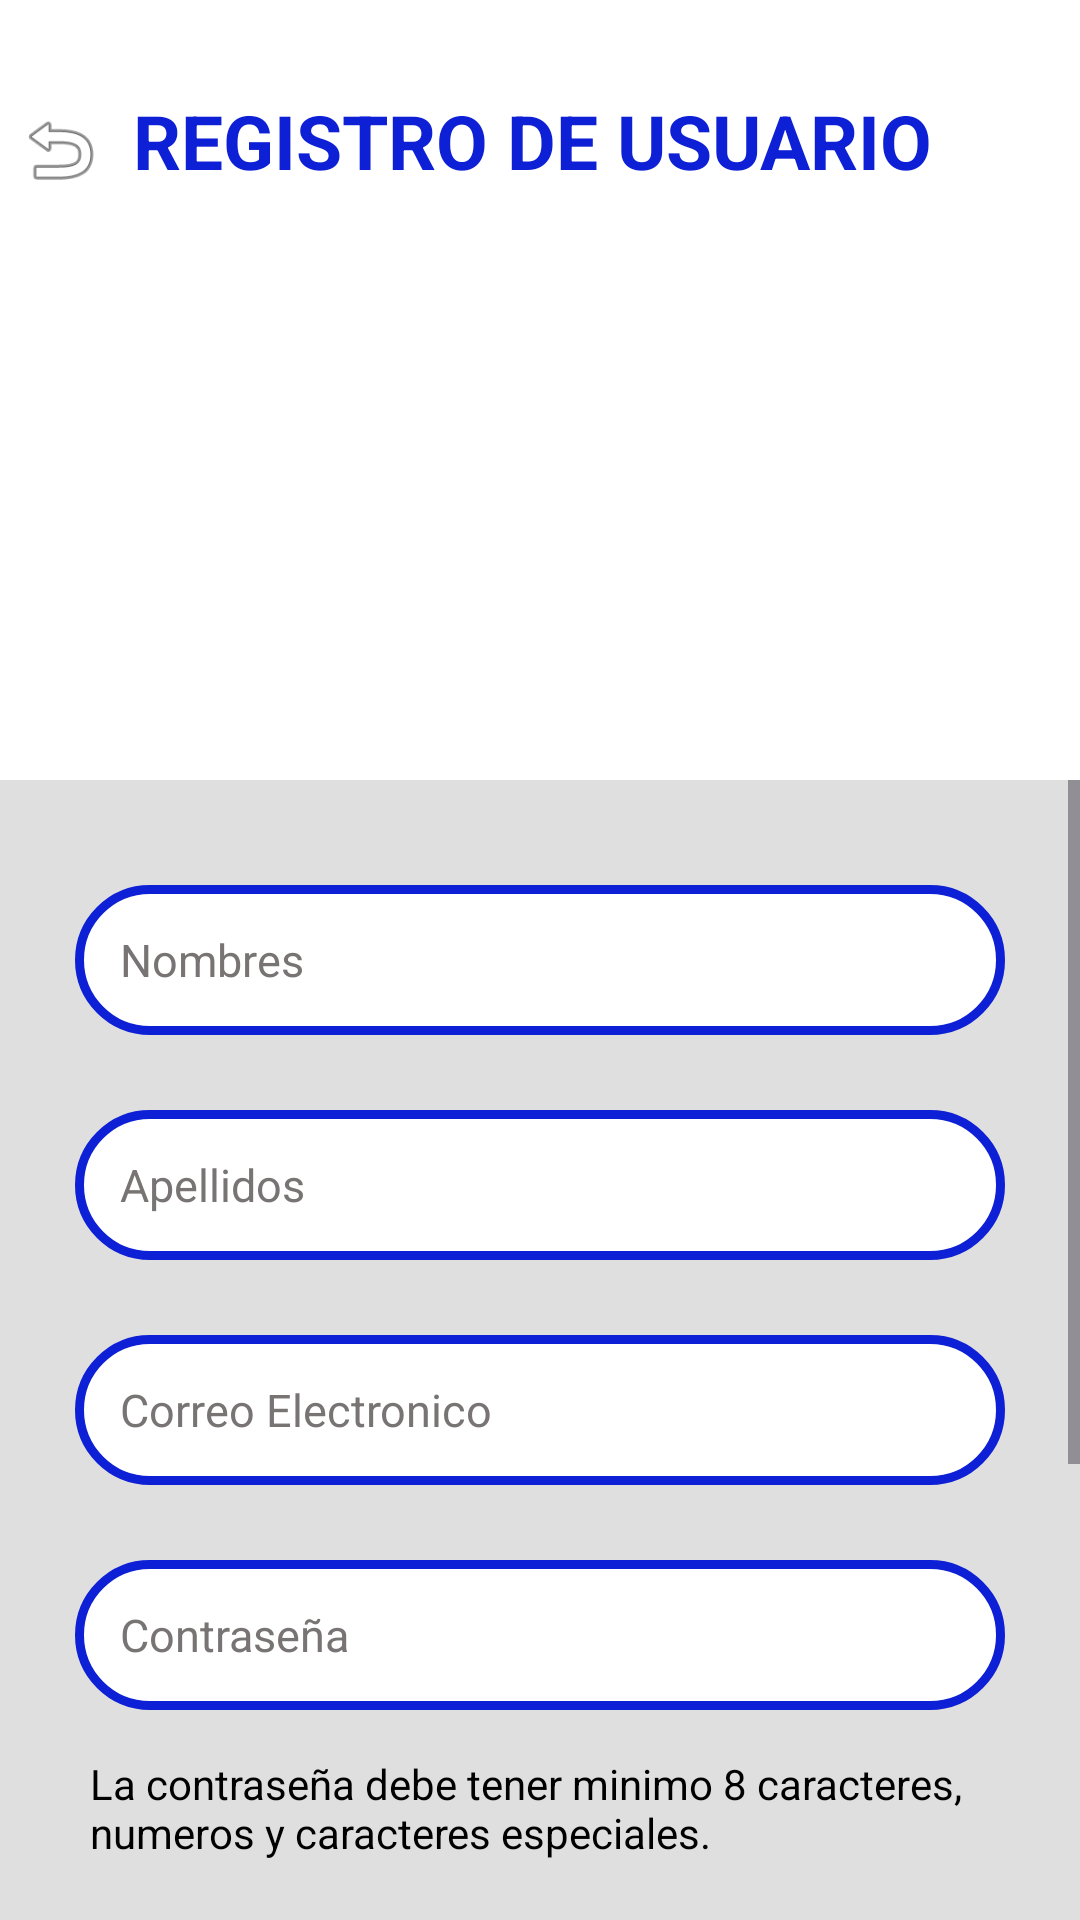

Icon click points for this 1080*1920 phone screenshot, format [x,y]:
revert: [61,150]
